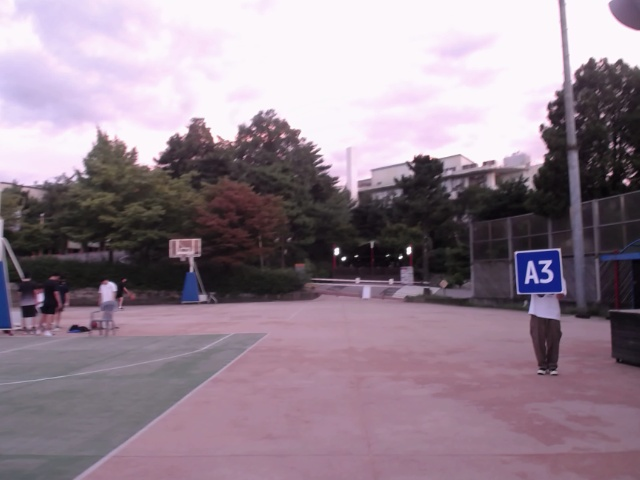delivery_a3: (515, 250, 563, 294)
